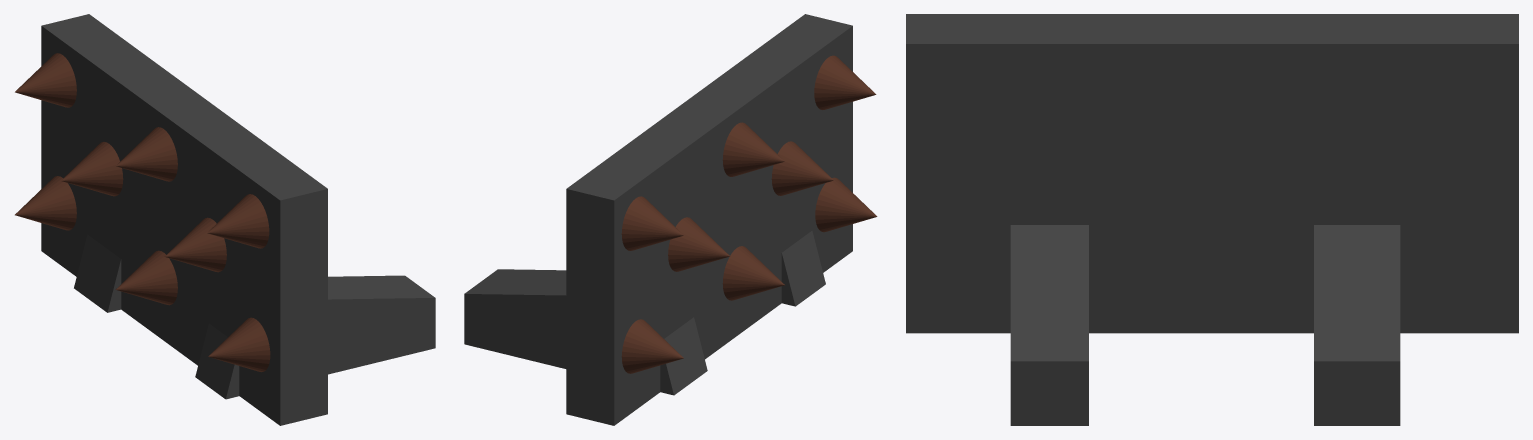
File: Wall.fbx
The picture shows the model from 3 angles, left to right: view 1: azimuth 30°, elevation 25°; view 2: azimuth 150°, elevation 25°; view 3: azimuth 270°, elevation 25°; orthographic projection. The views are drawn at different scales.
Parts seen in each view (by area): view 1: Cube; view 2: Cube; view 3: Cube.
Boxes of the visible parts, x1,y1,x2,y2 form: Cube: [15, 14, 435, 425]; Cube: [464, 14, 877, 425]; Cube: [906, 14, 1518, 425].
Bounding box in the file's own units: 227 × 200 × 384.
